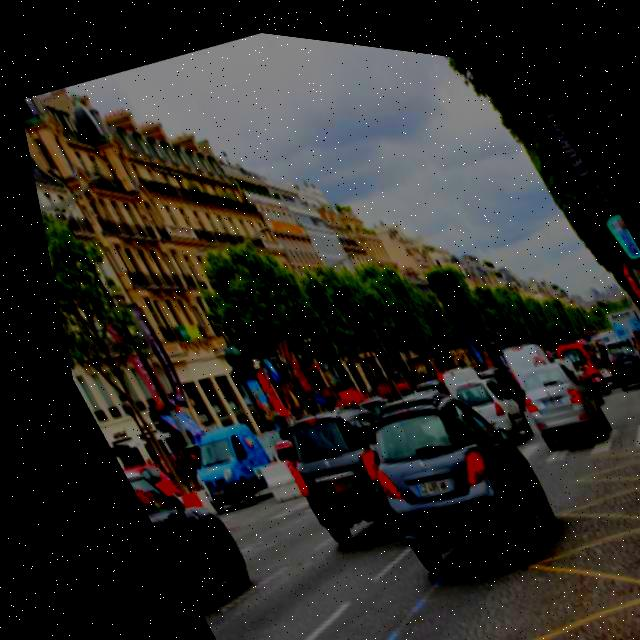license_plate: (390, 454, 443, 496)
